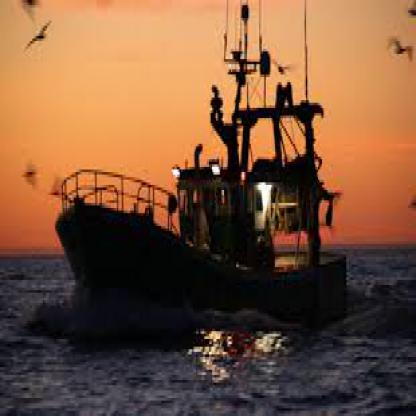fish-b: (46, 0, 358, 352)
